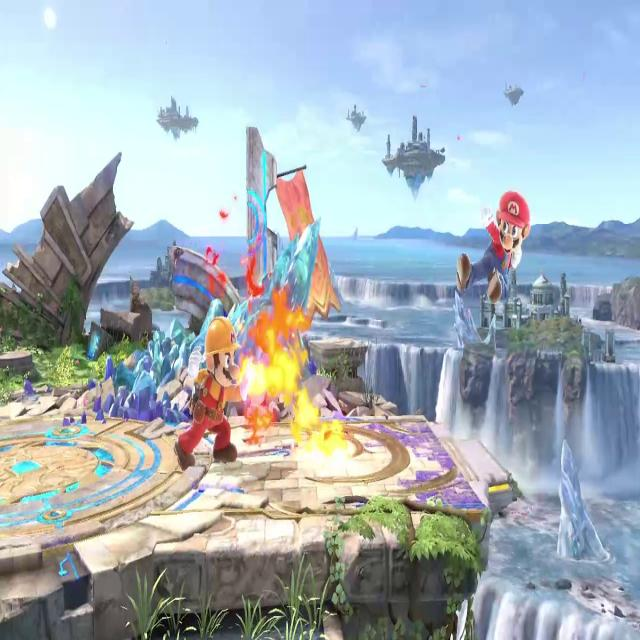Mario-NA: (451, 182, 534, 308)
Mario-NB: (172, 310, 255, 473)
